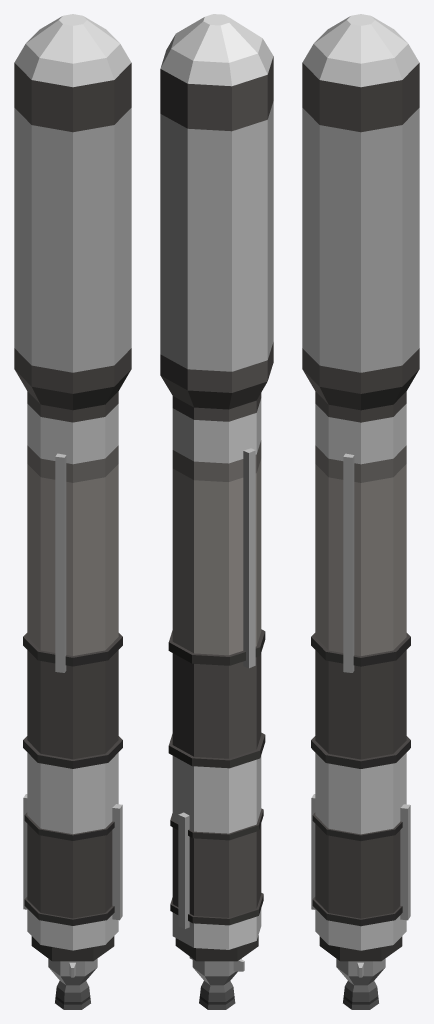
File: SM_Veh_Rocket_18.fbx
3 views of the same model, side by side, from view 1: azimuth 90°, elevation 25°; view 2: azimuth 150°, elevation 25°; view 3: azimuth 270°, elevation 25° (orthographic).
Parts seen in each view (by area): view 1: SM_Veh_Rocket_18; view 2: SM_Veh_Rocket_18; view 3: SM_Veh_Rocket_18.
Part boxes in pixels (left/top/right/bottom): SM_Veh_Rocket_18: left=14, top=14, right=131, bottom=1009; SM_Veh_Rocket_18: left=160, top=14, right=273, bottom=1009; SM_Veh_Rocket_18: left=302, top=14, right=419, bottom=1009.
Bounding box in the file's own units: 1.61 × 14.92 × 1.61.
